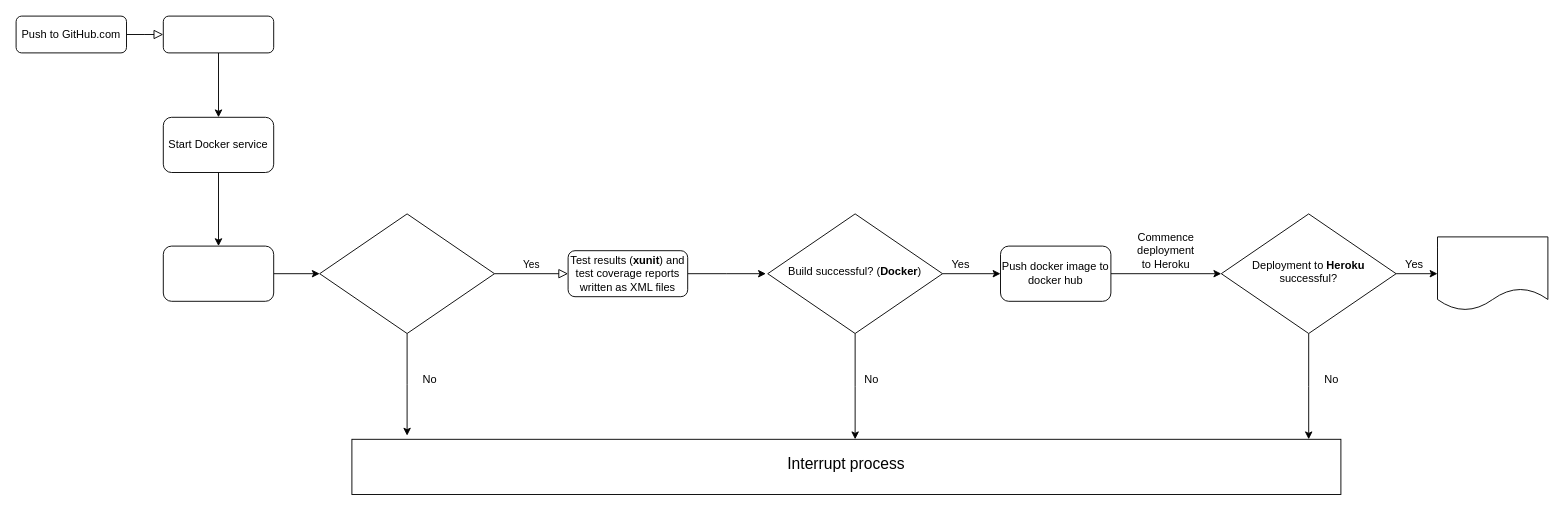
Image size: 1564x511. Some labels were removed from this diagram. The shapes that lost their labels are listed below. From the top down, each one's box as (x1, y1, x2, y2) in pixels, then its label:
(162, 15, 274, 53): Pull by Travis CI
(162, 245, 274, 301): Linting ( black ) Code complexity analysis ( radon )
(319, 213, 494, 334): Test passing? ( pytest )
(1437, 236, 1548, 310): Process completed
